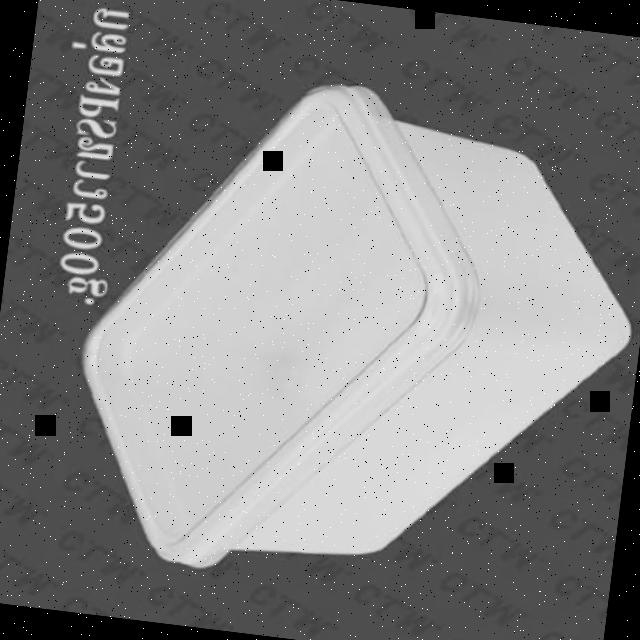plastic_box: (60, 59, 640, 614)
